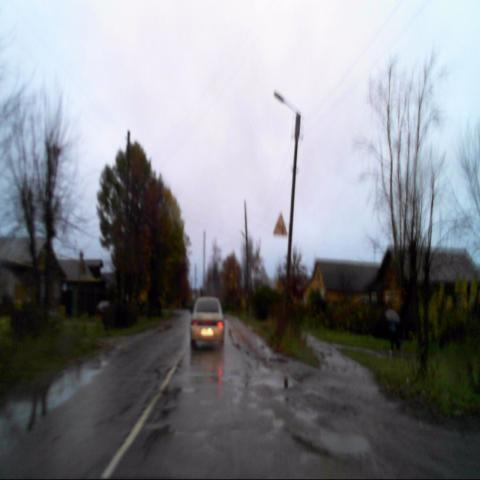1_12_2: (273, 212, 287, 236)
